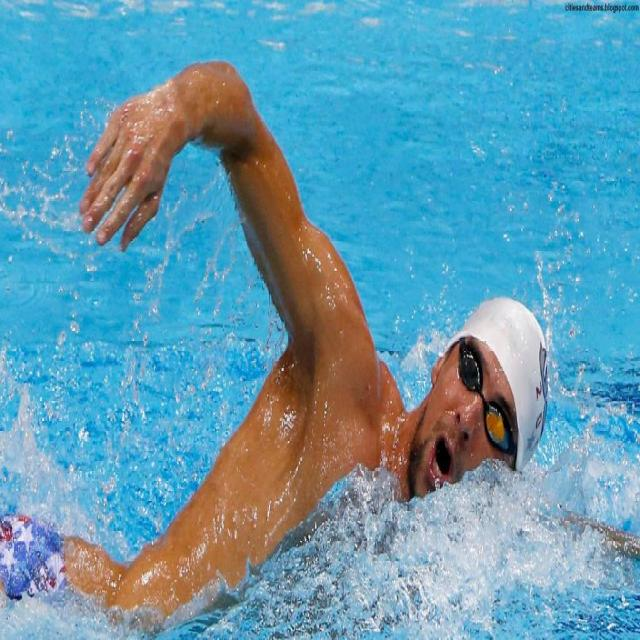Face: (401, 321, 524, 499)
